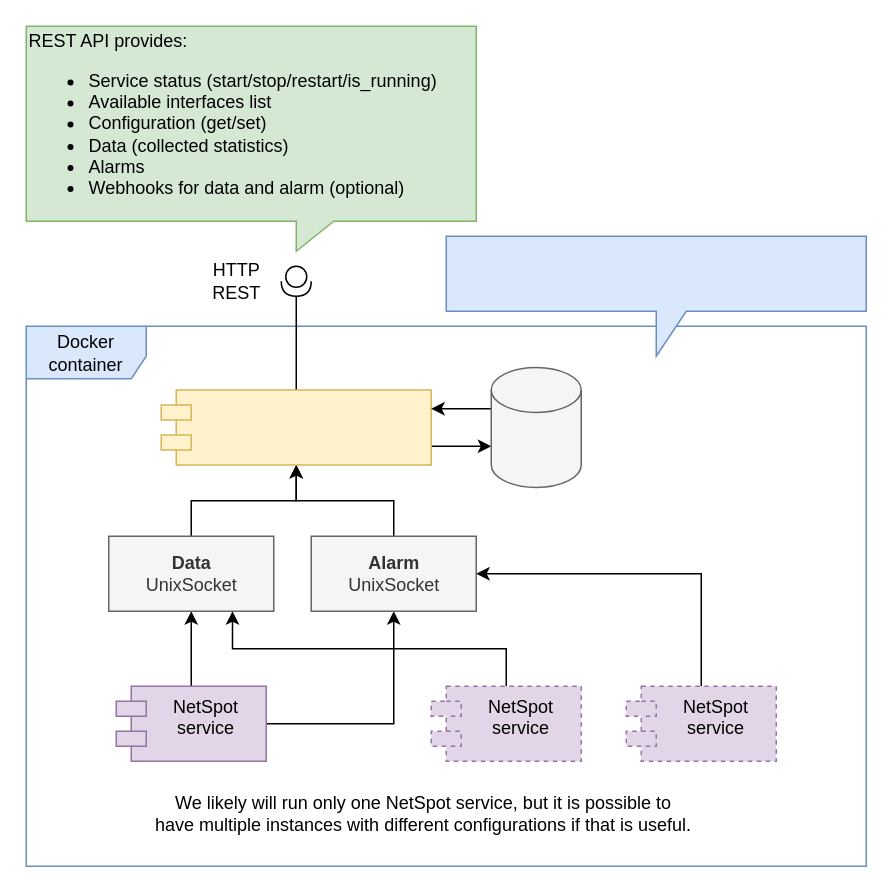
Image size: 893x893. Some labels were removed from this diagram. The centre of each missing label's shape, as x and y in pixels:
Cache database: the point at 535,427
Docker needs to be run with arguments: --cap-add NET_ADMIN --network host: the point at 655,295
NetSpotControl service: the point at 295,426
